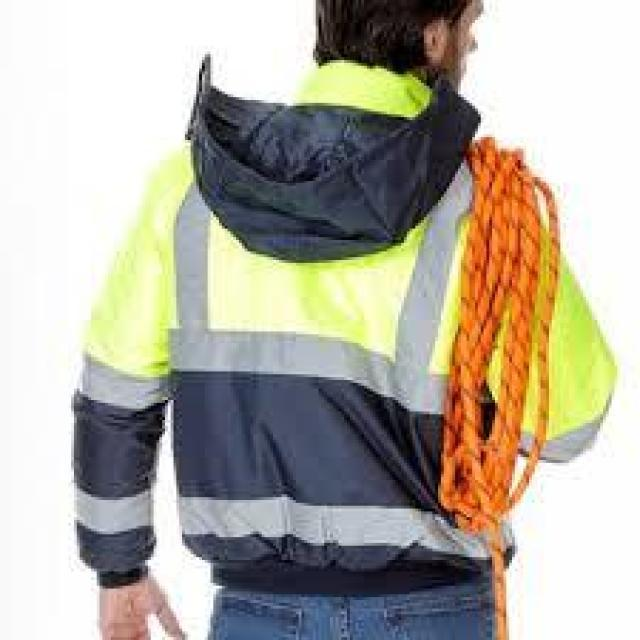safety_helmet: (78, 63, 619, 583)
